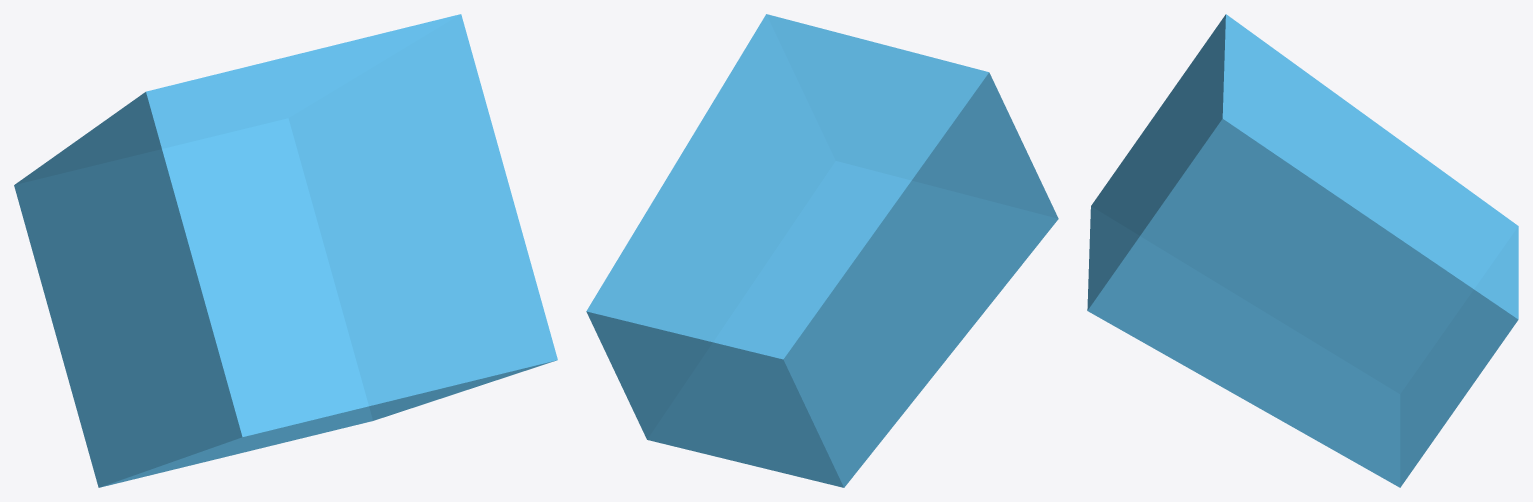
Rendered from Event_421556567_HBrechit_0.fbx.
3 views of the same model, side by side, from view 1: azimuth 30°, elevation 25°; view 2: azimuth 150°, elevation 25°; view 3: azimuth 270°, elevation 25° (orthographic). The views are drawn at different scales.
Visible parts, largest first — view 1: Model; view 2: Model; view 3: Model.
Boxes of the visible parts, x1,y1,x2,y2 form: Model: [14, 14, 557, 487]; Model: [586, 14, 1058, 487]; Model: [1087, 14, 1518, 487].
Size of the model in its own units: 0.5181 by 0.7168 by 0.7865.
